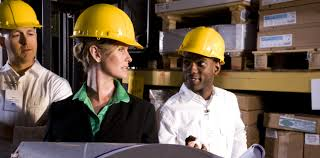Person_wearing_helmet: (63, 0, 144, 51), (167, 22, 228, 65)
